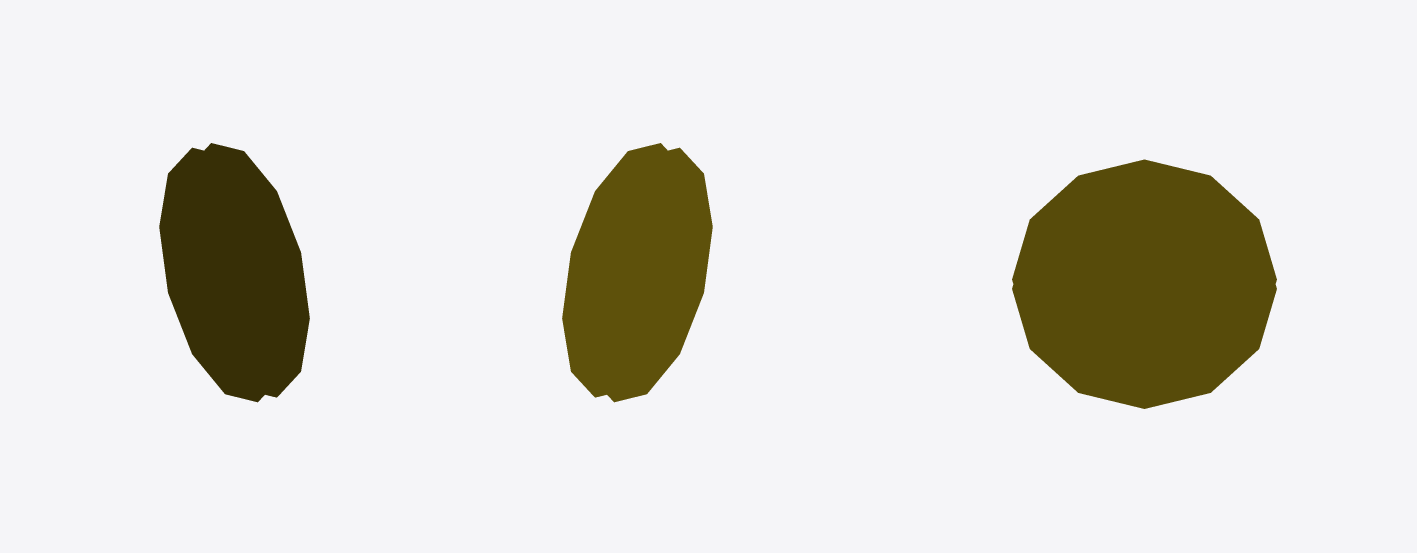
Rendered from WheelMod_11.fbx.
3 views of the same model, side by side, from view 1: azimuth 30°, elevation 25°; view 2: azimuth 150°, elevation 25°; view 3: azimuth 270°, elevation 25° (orthographic).
Parts seen in each view (by area): view 1: SM_Veh_Exotic_01_Wheel_fl; view 2: SM_Veh_Exotic_01_Wheel_fl; view 3: SM_Veh_Exotic_01_Wheel_fl.
Part boxes in pixels (x1,y1,x2,y2): SM_Veh_Exotic_01_Wheel_fl: (159, 143, 309, 402); SM_Veh_Exotic_01_Wheel_fl: (562, 143, 712, 402); SM_Veh_Exotic_01_Wheel_fl: (1012, 159, 1276, 408).
Size of the model in its own units: 30.07 by 80.3 by 80.3.
